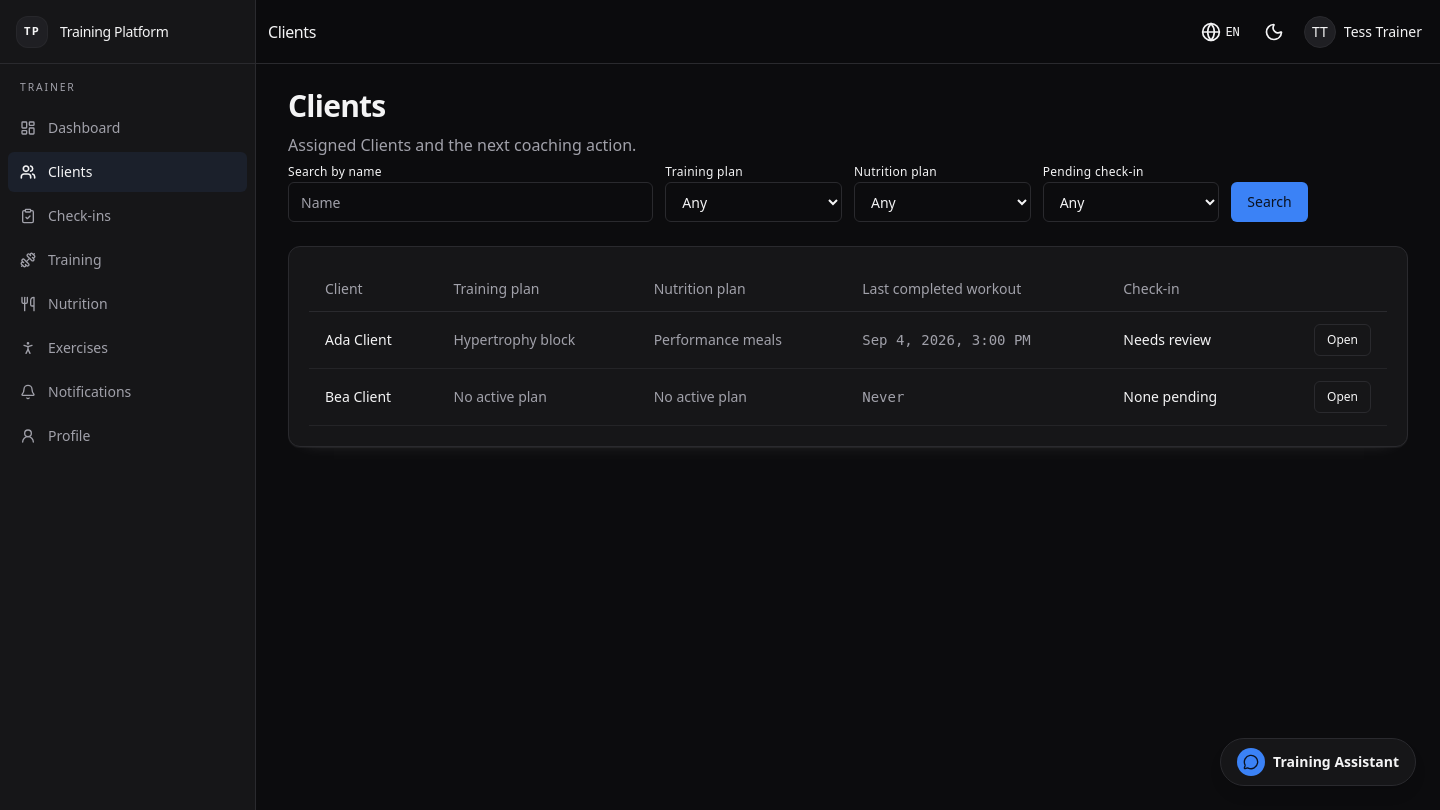
Test: Trainer workspace › opens client context and does not flash the previous client after switching
Expected: the heading "Clients" is shown, [288,85,386,126]
Click the link with aria-label "Open Ada Client": (1343, 340) [1314,324,1371,356]
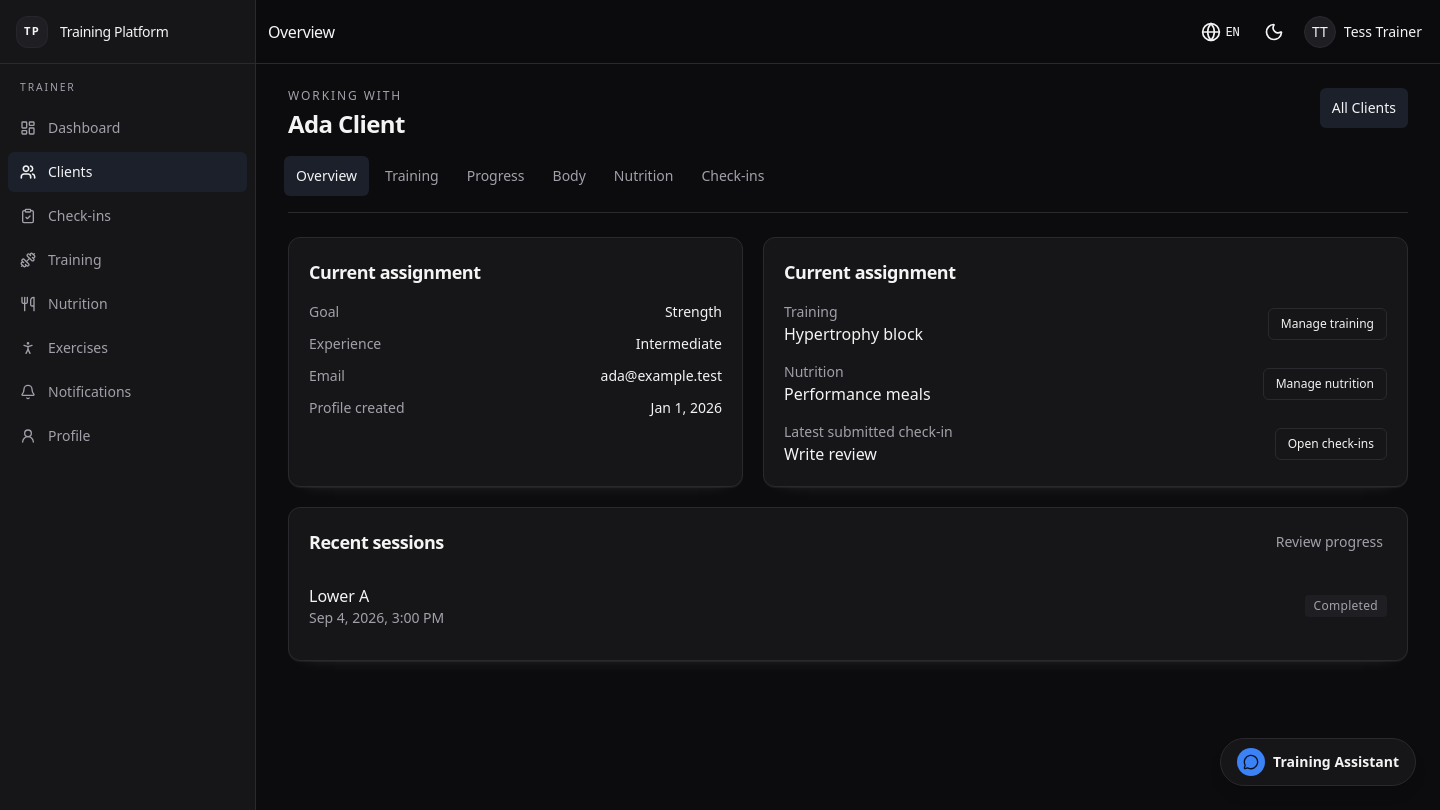
Expected: the heading "Ada Client" is shown, [288,108,405,140]
Expected: the navigation bar named "Working with" is shown, [284,156,764,196]
Click the link "All Clients": (1364, 108) [1320,88,1408,128]
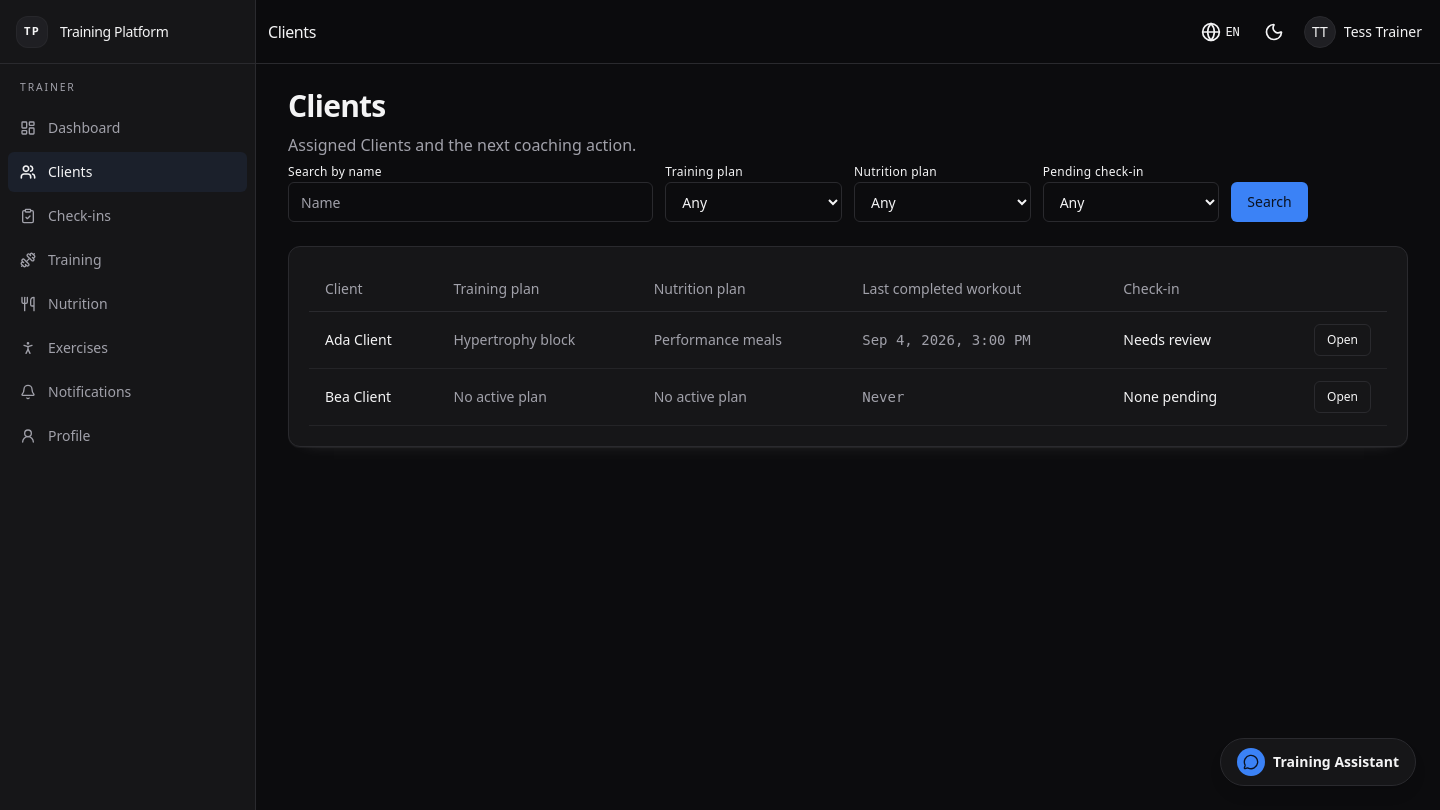
Expected: the heading "Clients" is shown, [288,85,386,126]
Click the link with aria-label "Open Bea Client": (1343, 397) [1314,381,1371,413]
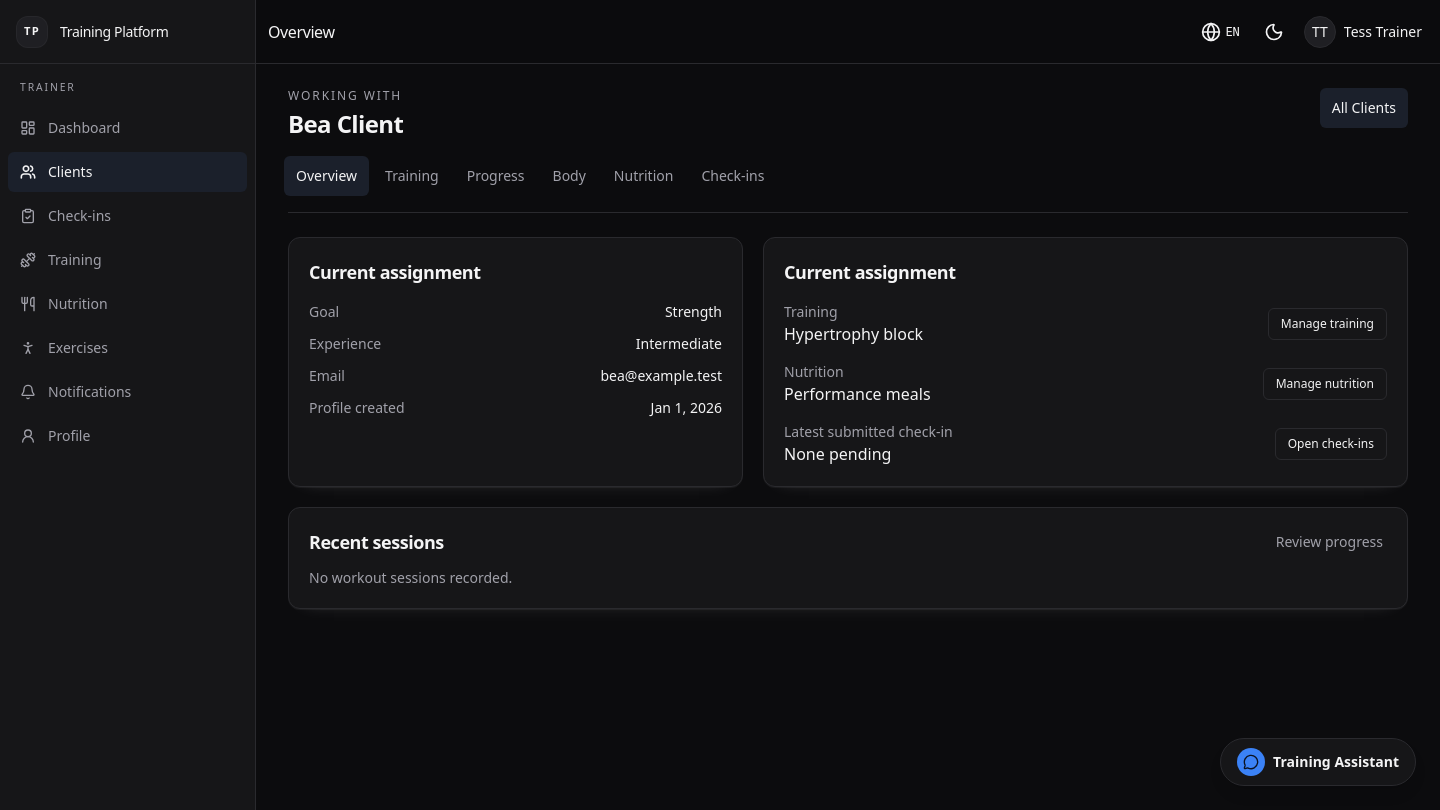
Expected: the heading "Bea Client" is shown, [288,108,403,140]
Expected: the cell "Ada Client" is gone
